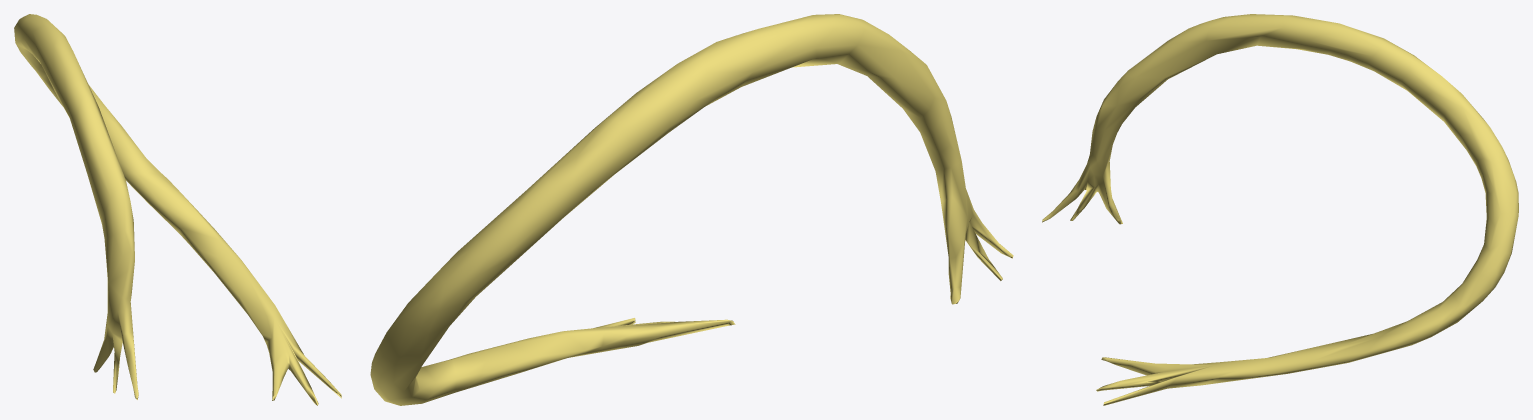
Rendered from stria-terminalis-l.glb.
The picture shows the model from 3 angles, left to right: view 1: azimuth 30°, elevation 25°; view 2: azimuth 150°, elevation 25°; view 3: azimuth 270°, elevation 25°; orthographic projection. The views are drawn at different scales.
Visible parts, largest first — view 1: Stria terminalis.l; view 2: Stria terminalis.l; view 3: Stria terminalis.l.
Part boxes in pixels (<box>): Stria terminalis.l: <box>14,14,341,405</box>; Stria terminalis.l: <box>370,14,1013,405</box>; Stria terminalis.l: <box>1042,14,1518,405</box>.
Bounding box in the file's own units: 0.0249 × 0.0299 × 0.0423.
